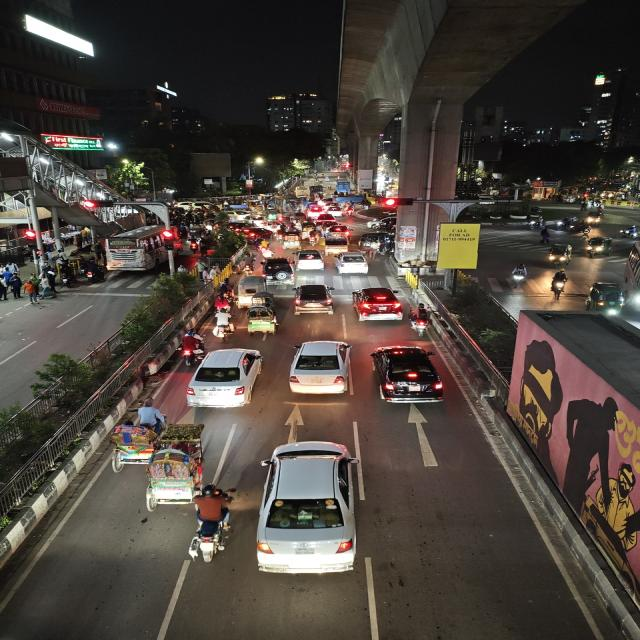bus: (103, 226, 167, 273), (620, 244, 640, 319)
car: (255, 439, 366, 577), (183, 347, 268, 412), (366, 342, 447, 408), (284, 337, 356, 400), (350, 284, 406, 324), (290, 282, 336, 317), (260, 256, 296, 284), (334, 250, 371, 276), (291, 248, 326, 272), (356, 232, 384, 256), (323, 223, 352, 241), (366, 213, 384, 229)
cng: (585, 280, 625, 320), (234, 278, 268, 304), (545, 241, 575, 270), (583, 235, 614, 259), (278, 232, 303, 252), (299, 222, 317, 239)
motorcycle: (187, 483, 235, 565), (175, 328, 207, 364), (406, 302, 437, 339), (211, 306, 237, 340), (545, 270, 571, 302), (508, 263, 530, 291), (78, 260, 102, 282), (256, 241, 275, 258)
pedestrian: (24, 276, 42, 305), (39, 269, 57, 293), (7, 272, 23, 298), (537, 227, 554, 245), (0, 274, 9, 302)
pickup_van: (321, 236, 352, 253)
rickshaw: (146, 423, 208, 512), (106, 398, 166, 474), (246, 299, 282, 333)
